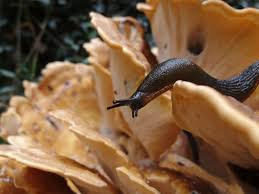slug: (110, 62, 259, 114)
